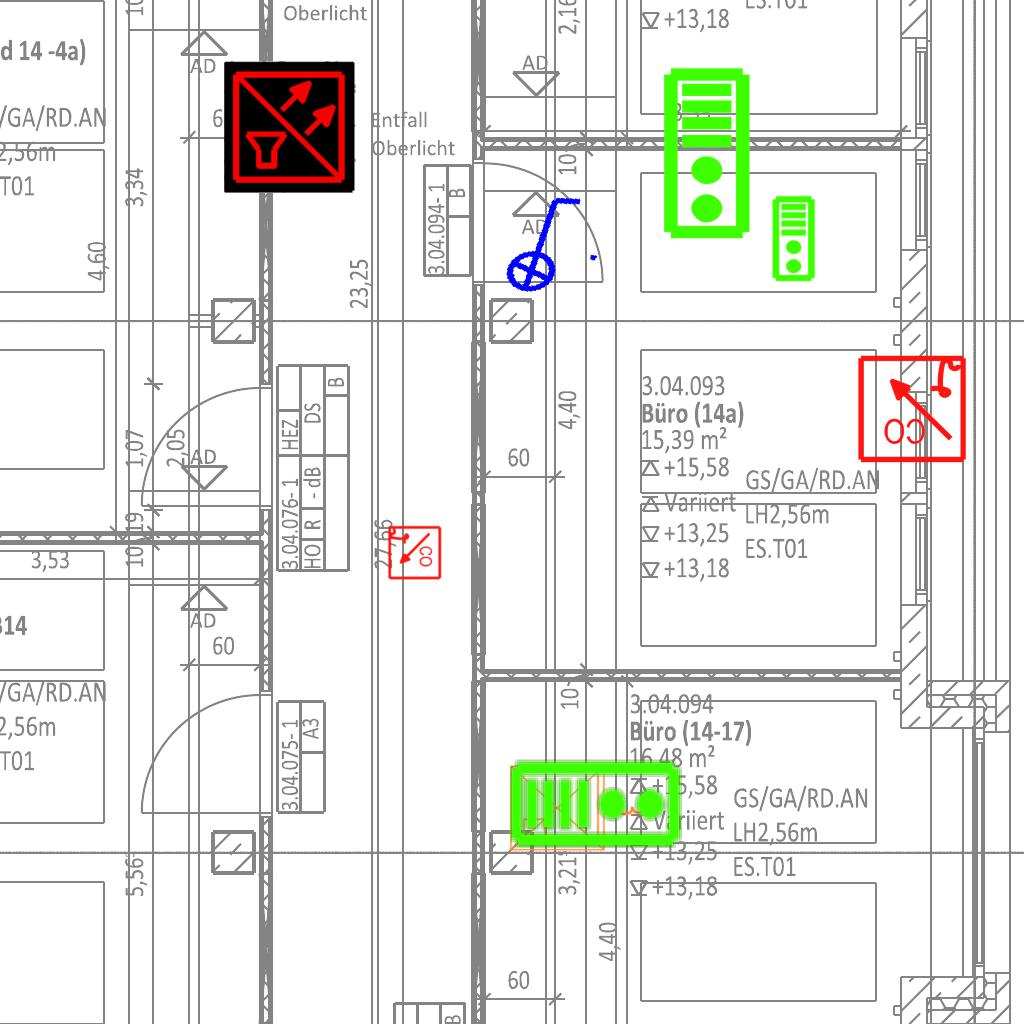Ausschalter_beleuchtet: (476, 182, 608, 302)
Einbaudownlights_LED_Konferenzraeume: (503, 754, 653, 858)
Gegensprechanlage_mit_Video: (661, 66, 756, 242), (508, 755, 684, 850), (771, 195, 818, 283)
OKW_Multisensormelder_(Kombination_optischer_Rauch-Kahlenmonoxid_Waerme-Melder): (224, 61, 356, 193)
ROA_Rauchmelder_optisch_mit_Signalgeber_(Sockelsirene): (855, 351, 968, 464), (386, 525, 442, 581)
